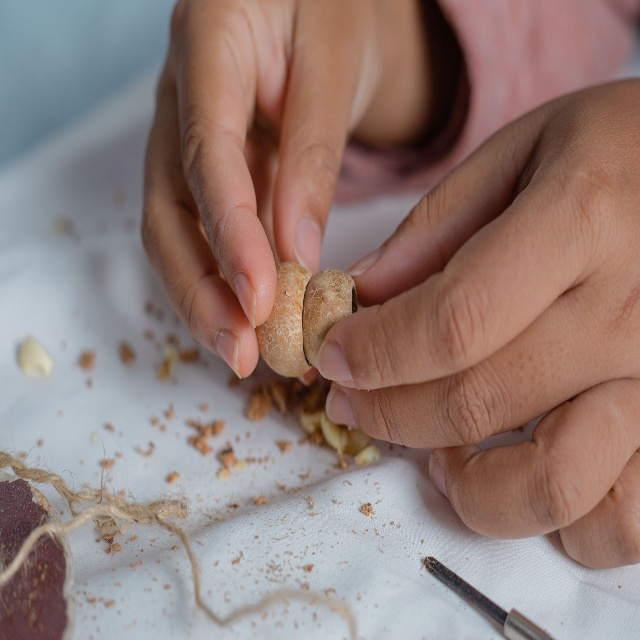Sin_guantes: (316, 75, 640, 570), (141, 0, 389, 379)
